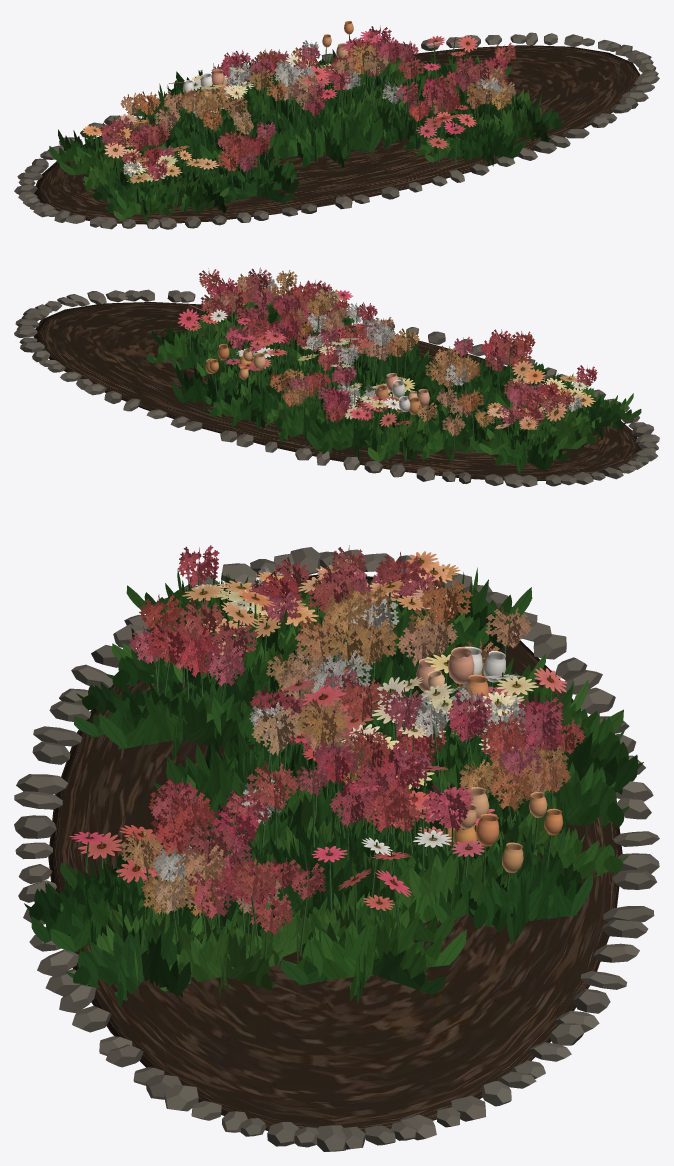
Rendered from flower-bed-7.glb.
3 renders of one model, top to bottom at view 1: azimuth 30°, elevation 25°; view 2: azimuth 150°, elevation 25°; view 3: azimuth 270°, elevation 25°, orthographic. The views are drawn at different scales.
Visible parts, largest first — view 1: flower-bed-7_FlowerFoliage, flower-bed-7_Mulch, flower-bed-7_FlowerFloret, flower-bed-7_EdgeStone, flower-bed-7_FlowerDaisy, flower-bed-7_FlowerStem, flower-bed-7_FlowerCup; view 2: flower-bed-7_FlowerFoliage, flower-bed-7_FlowerFloret, flower-bed-7_Mulch, flower-bed-7_EdgeStone, flower-bed-7_FlowerDaisy, flower-bed-7_FlowerStem, flower-bed-7_FlowerCup; view 3: flower-bed-7_FlowerFoliage, flower-bed-7_Mulch, flower-bed-7_FlowerFloret, flower-bed-7_EdgeStone, flower-bed-7_FlowerDaisy, flower-bed-7_FlowerStem, flower-bed-7_FlowerCup.
Boxes of the visible parts, <box> form: flower-bed-7_FlowerFoliage: <box>49,41,564,222</box>; flower-bed-7_Mulch: <box>34,45,640,224</box>; flower-bed-7_FlowerFloret: <box>100,25,516,180</box>; flower-bed-7_EdgeStone: <box>14,32,659,229</box>; flower-bed-7_FlowerDaisy: <box>82,30,477,183</box>; flower-bed-7_FlowerStem: <box>90,34,505,202</box>; flower-bed-7_FlowerCup: <box>182,21,377,108</box>; flower-bed-7_FlowerFoliage: <box>146,285,641,473</box>; flower-bed-7_FlowerFloret: <box>199,267,597,436</box>; flower-bed-7_Mulch: <box>33,302,641,481</box>; flower-bed-7_EdgeStone: <box>14,289,659,487</box>; flower-bed-7_FlowerDaisy: <box>178,290,595,429</box>; flower-bed-7_FlowerStem: <box>188,284,587,456</box>; flower-bed-7_FlowerCup: <box>205,344,429,414</box>; flower-bed-7_FlowerFoliage: <box>24,562,643,1007</box>; flower-bed-7_Mulch: <box>48,574,622,1132</box>; flower-bed-7_FlowerFloret: <box>120,545,585,935</box>; flower-bed-7_EdgeStone: <box>14,547,659,1151</box>; flower-bed-7_FlowerDaisy: <box>69,551,566,910</box>; flower-bed-7_FlowerStem: <box>83,558,564,960</box>; flower-bed-7_FlowerCup: <box>416,646,563,872</box>.
Size of the model in its own units: 5.18 by 0.7719 by 2.36.
Materials: 7 (4 with a texture image).
